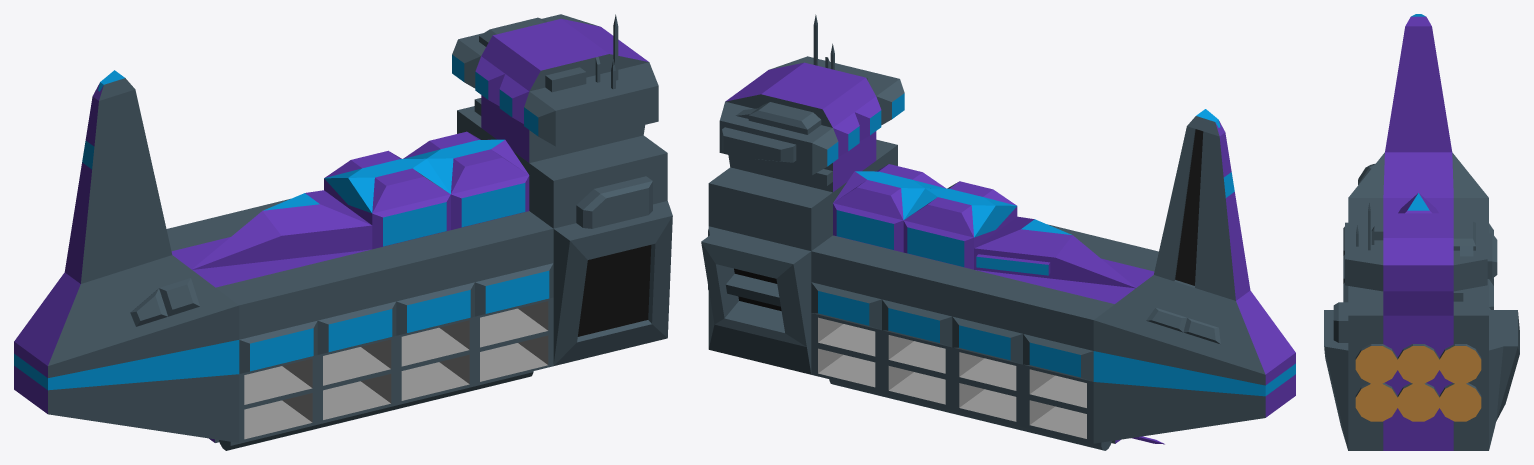
Rendered from scene_5n9VlEjUNH.glb.
3 renders of one model, left to right at view 1: azimuth 30°, elevation 25°; view 2: azimuth 150°, elevation 25°; view 3: azimuth 270°, elevation 25°, orthographic. The views are drawn at different scales.
Parts seen in each view (by area): view 1: group870914043, group2005235306, group271688786, group1634159832, group1775626974; view 2: group870914043, group947650286, group1625104576, group1166641467, group2138472324, group2137078501; view 3: group870914043, group37947986, group192720272, group1600659547, group914247237, group468475304, group1992135772, group2005235306, group1625104576, group947650286, group1775626974.
Boxes of the visible parts, left/top/right/bottom form: group870914043: left=14, top=14, right=672, bottom=442; group2005235306: left=576, top=176, right=652, bottom=228; group271688786: left=130, top=278, right=199, bottom=326; group1634159832: left=219, top=371, right=533, bottom=450; group1775626974: left=545, top=67, right=586, bottom=92; group870914043: left=701, top=56, right=1295, bottom=443; group947650286: left=722, top=127, right=796, bottom=162; group1625104576: left=748, top=102, right=821, bottom=134; group1166641467: left=829, top=379, right=1111, bottom=450; group2138472324: left=976, top=254, right=1050, bottom=275; group2137078501: left=738, top=157, right=832, bottom=185; group870914043: left=1324, top=14, right=1519, bottom=450; group37947986: left=1397, top=344, right=1439, bottom=383; group192720272: left=1439, top=344, right=1481, bottom=383; group1600659547: left=1355, top=344, right=1397, bottom=383; group914247237: left=1355, top=383, right=1397, bottom=421; group468475304: left=1397, top=383, right=1439, bottom=421; group1992135772: left=1439, top=383, right=1481, bottom=421; group2005235306: left=1333, top=302, right=1348, bottom=342; group1625104576: left=1453, top=221, right=1475, bottom=250; group947650286: left=1487, top=233, right=1497, bottom=278; group1775626974: left=1373, top=219, right=1383, bottom=240.
Bounding box in the file's own units: 1.04 × 0.6212 × 0.4063.
